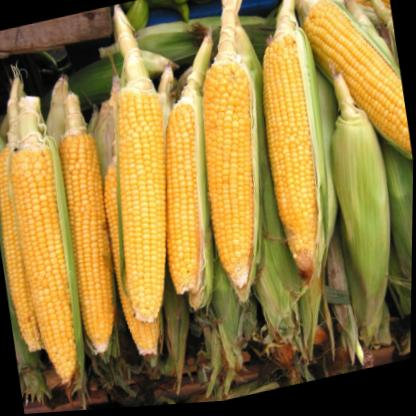---: (178, 44, 290, 312), (91, 74, 196, 332), (2, 123, 97, 397), (249, 19, 345, 282), (47, 114, 134, 360), (294, 0, 414, 178), (138, 92, 228, 309)
